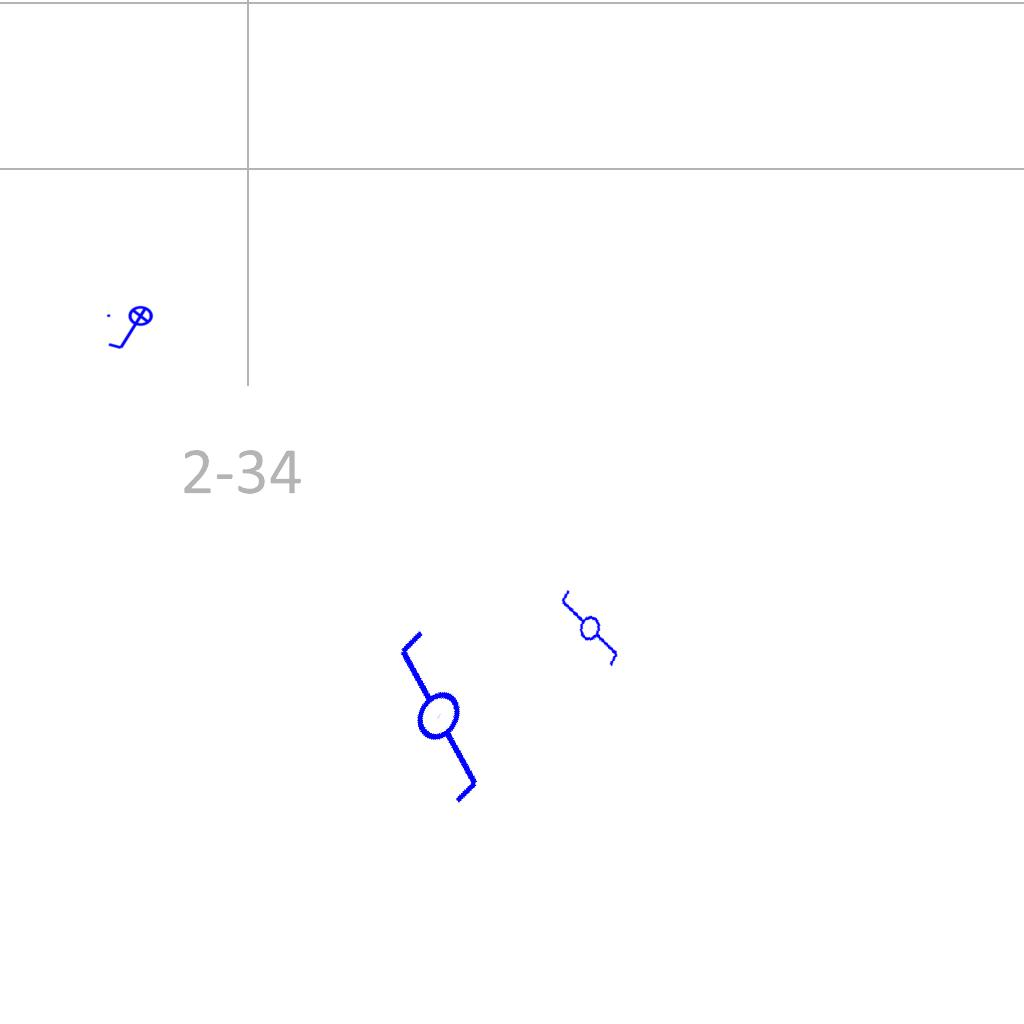Ausschalter_beleuchtet: (104, 305, 160, 353)
Wechselschalter: (343, 606, 546, 814), (544, 586, 632, 678)
